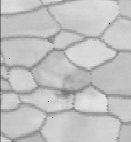good_void: (57, 74, 94, 101)
